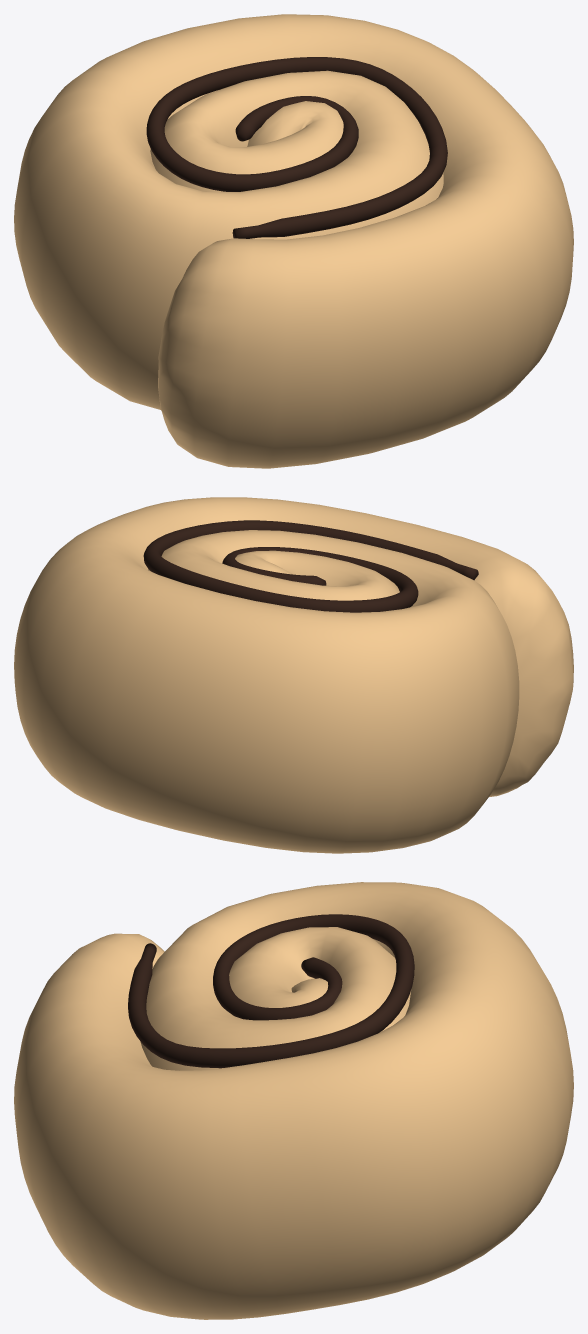
File: rollitoanimado.fbx
3 renders of one model, top to bottom at view 1: azimuth 30°, elevation 25°; view 2: azimuth 150°, elevation 25°; view 3: azimuth 270°, elevation 25°, orthographic. The views are drawn at different scales.
Parts seen in each view (by area): view 1: BezierCurve; view 2: BezierCurve; view 3: BezierCurve.
Part boxes in pixels (x1=…): BezierCurve: x1=14, y1=14, x2=573, y2=468; BezierCurve: x1=14, y1=497, x2=573, y2=853; BezierCurve: x1=14, y1=882, x2=573, y2=1319.
Bounding box in the file's own units: 106 × 63.9 × 107.
